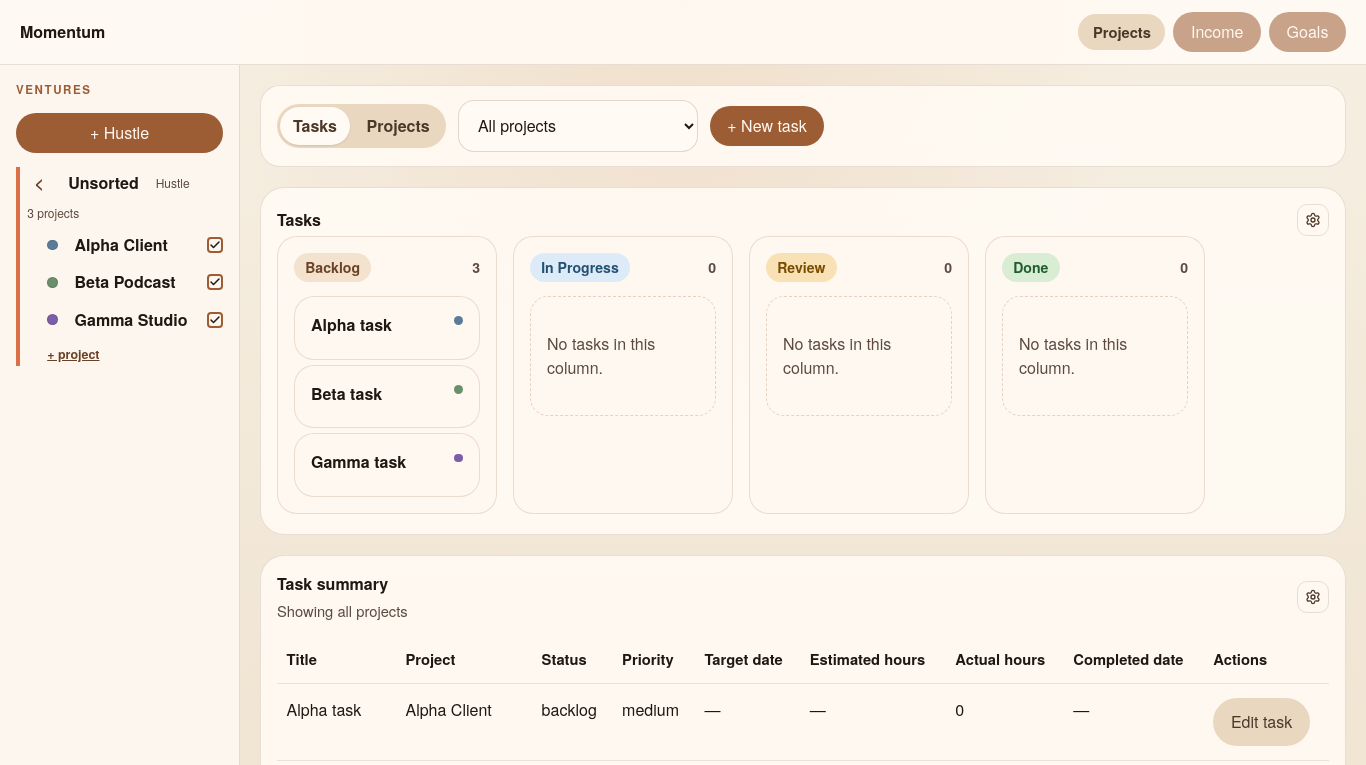
Test: Ticket 1b-4 Projects page polish › task summary filter subtitle copy › shows human copy for all projects, counts, and a single project name
The width and height of the screenshot is (1366, 765).
Expected: the text "Showing all projects" is shown, 277,600 -> 408,622
Click the checkbox named "Gamma Studio": (215, 320) 207,312 -> 223,328
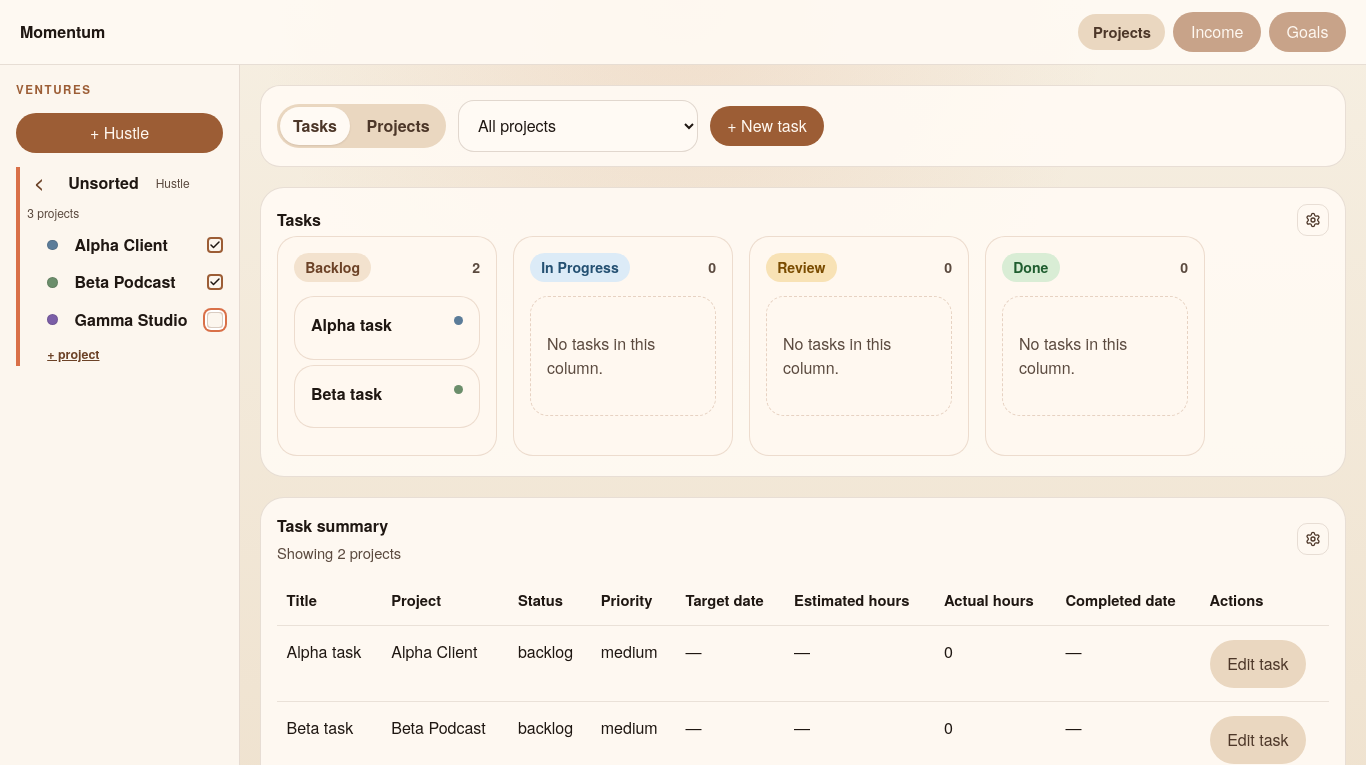
Now the text "Showing 2 projects" is shown, box 277,542 -> 401,564
Select "Alpha Client" in the dropdown named "project filter": (578, 126) 458,100 -> 698,152
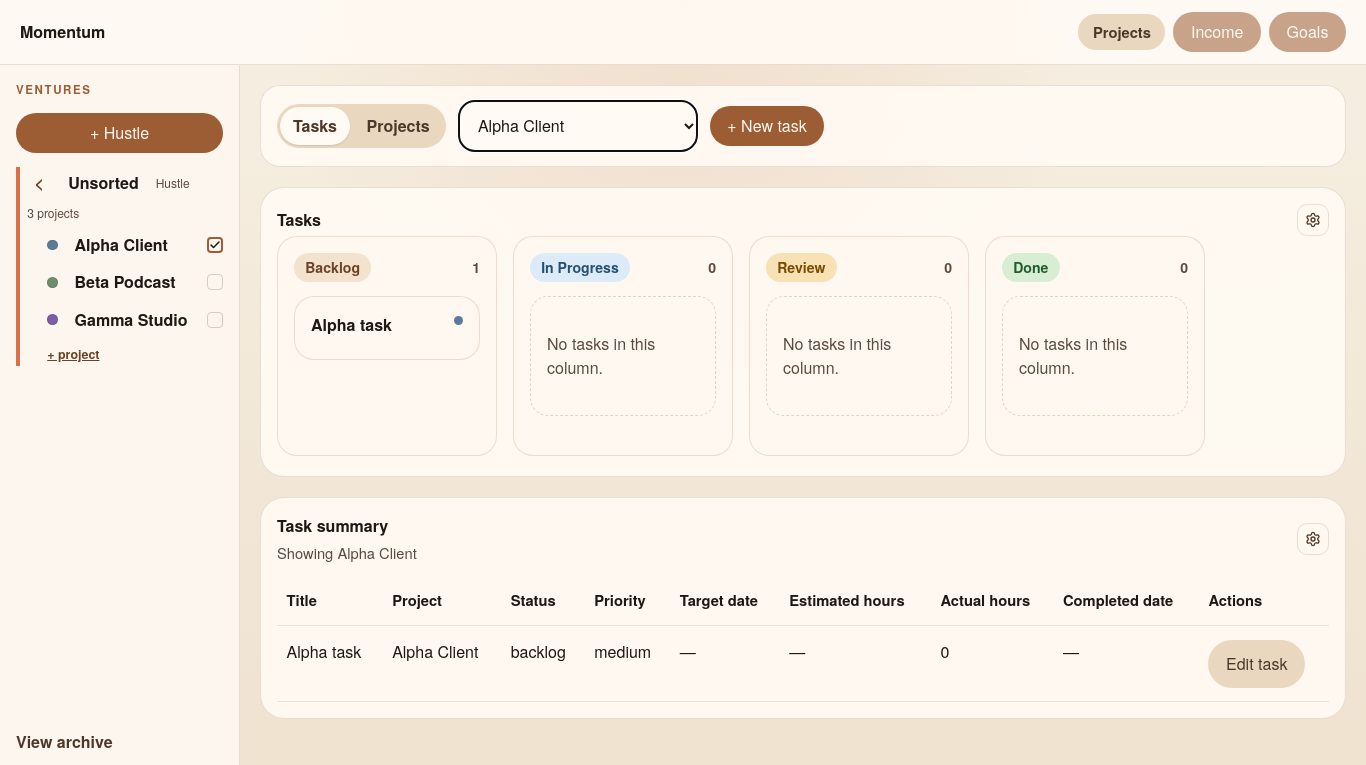
Now the text "Showing Alpha Client" is shown, box 277,542 -> 417,564
